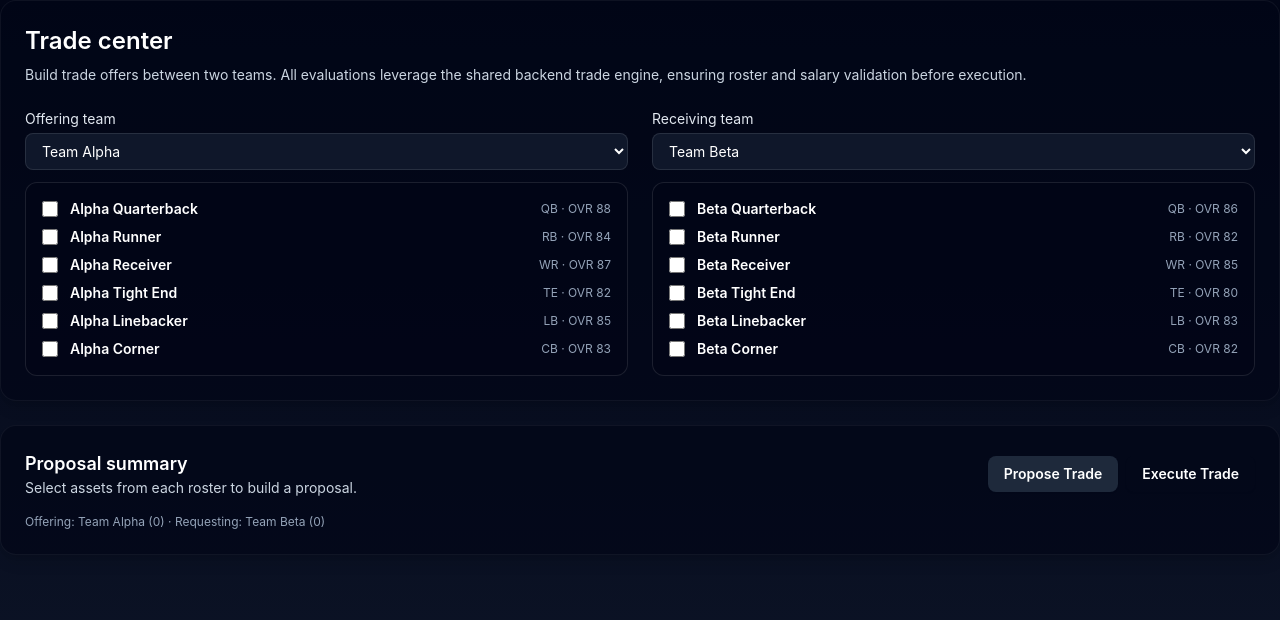
Scenario: TradeCenterPage › approves a balanced trade
The image size is (1280, 620).
Click the checkbox labelled "Alpha Linebacker" at (50, 321), box top-left (42, 313), bottom-right (58, 329)
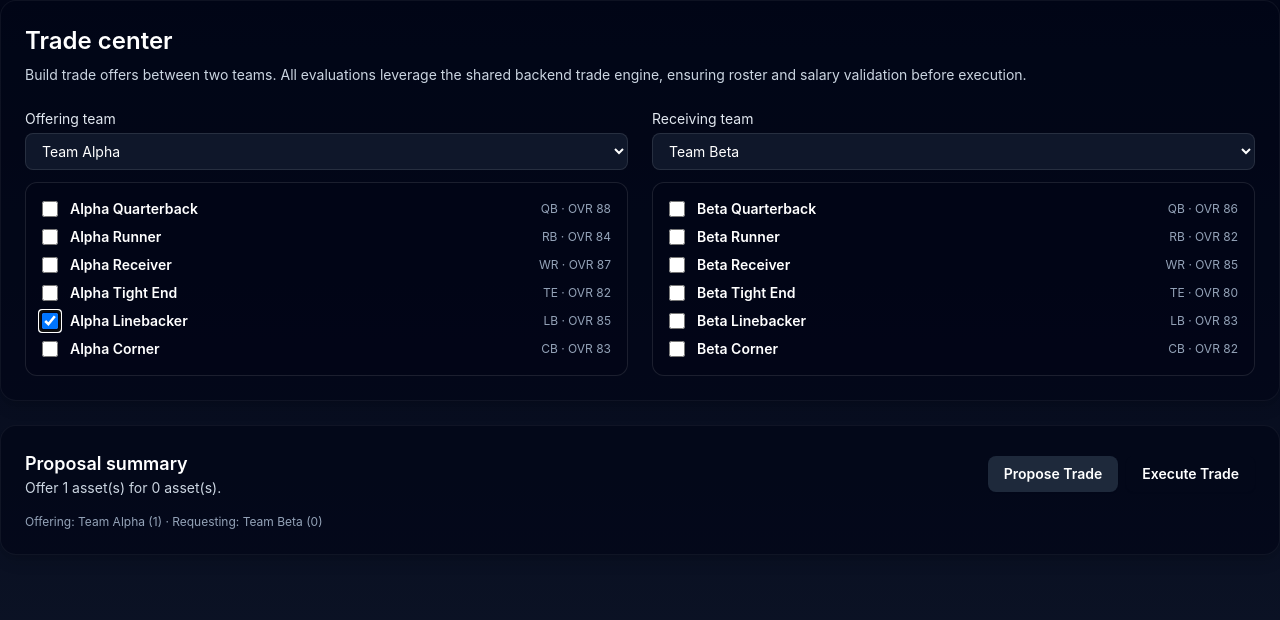
Click the checkbox labelled "Beta Linebacker" at (677, 321), box top-left (669, 313), bottom-right (685, 329)
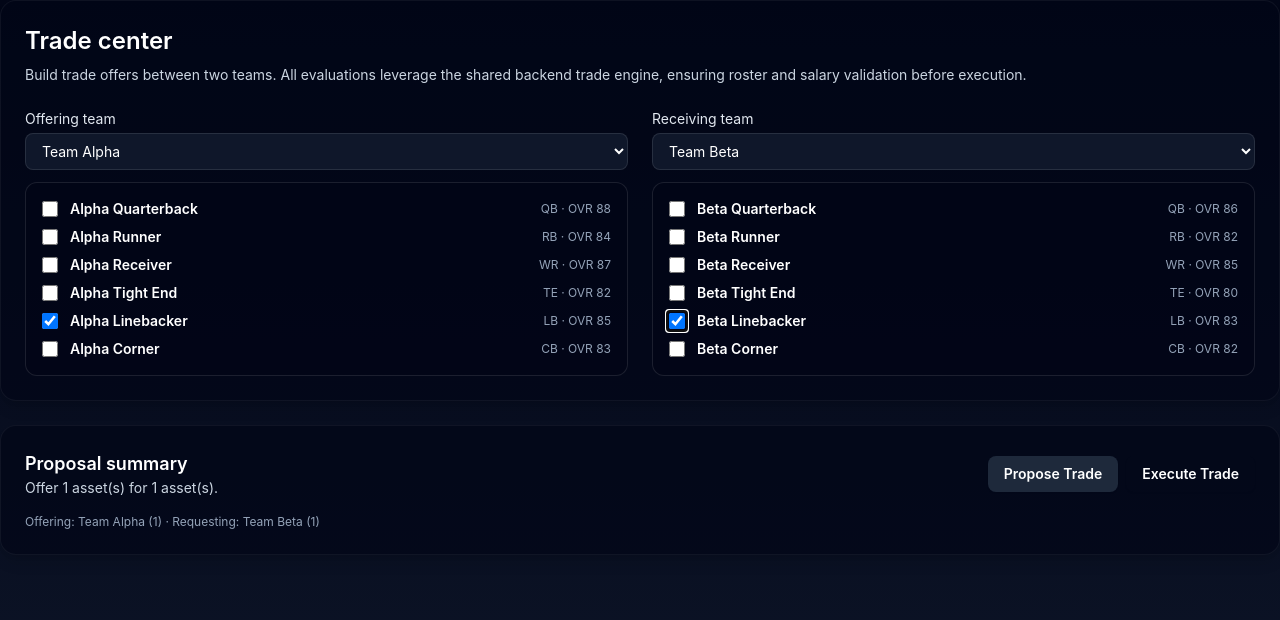
Click the button "Propose Trade" at (1053, 474), box top-left (988, 456), bottom-right (1118, 492)
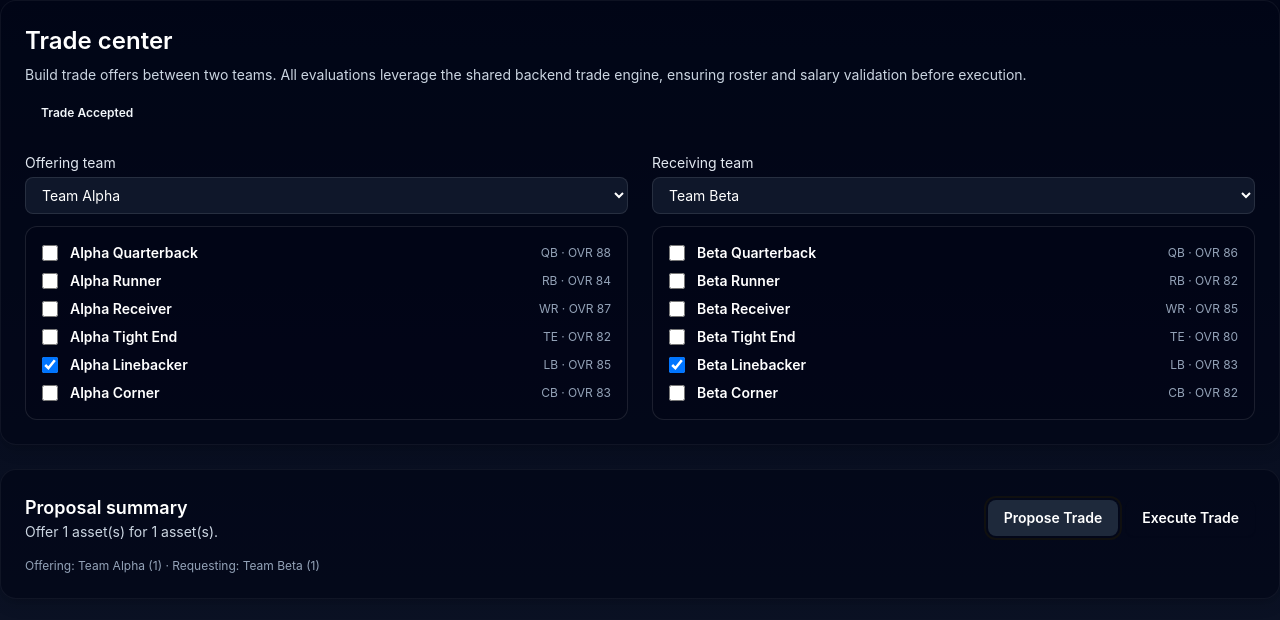
Expected: the text "Trade Accepted" is shown, top-left (41, 105), bottom-right (133, 120)
